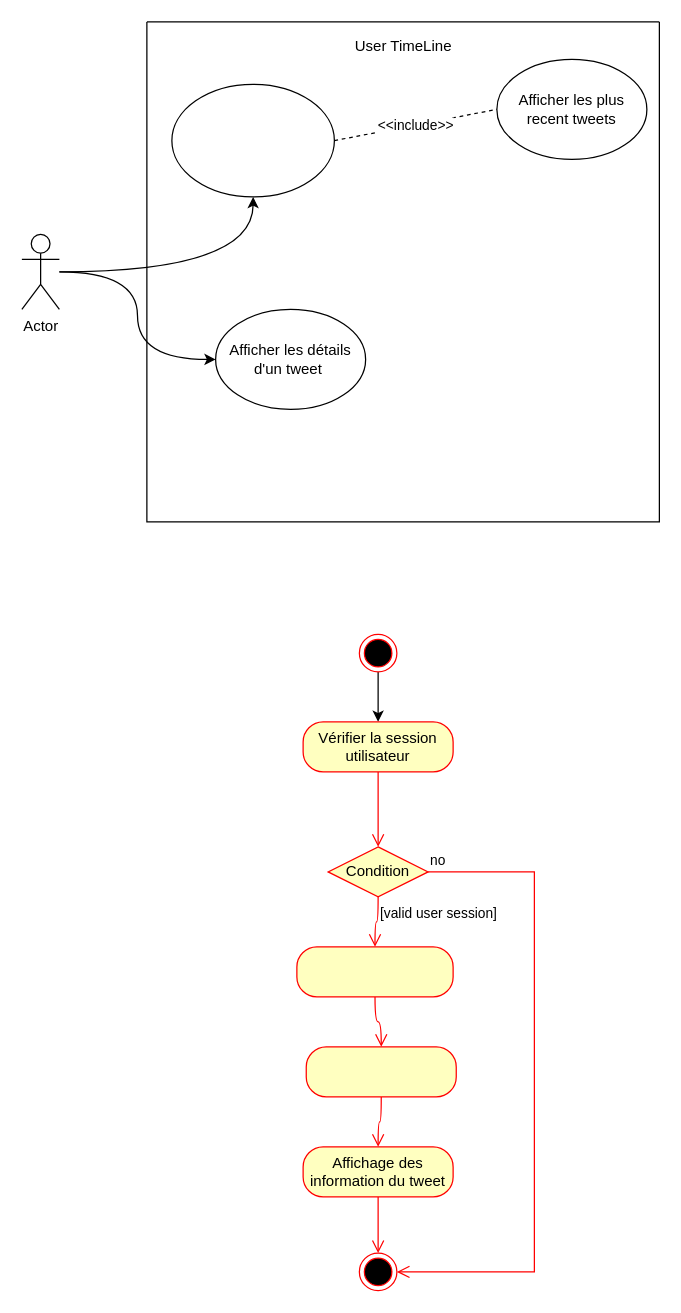
Image size: 681x1313. Some labels were removed from this diagram. Each missing label, with the centre of its shape:
"Affichage des tweet du compte sélectionné" goes at point 374,971.
"Afficher les tweets et d'un comple" goes at point 252,140.
"selection d'un tweet" goes at point 380,1071.
